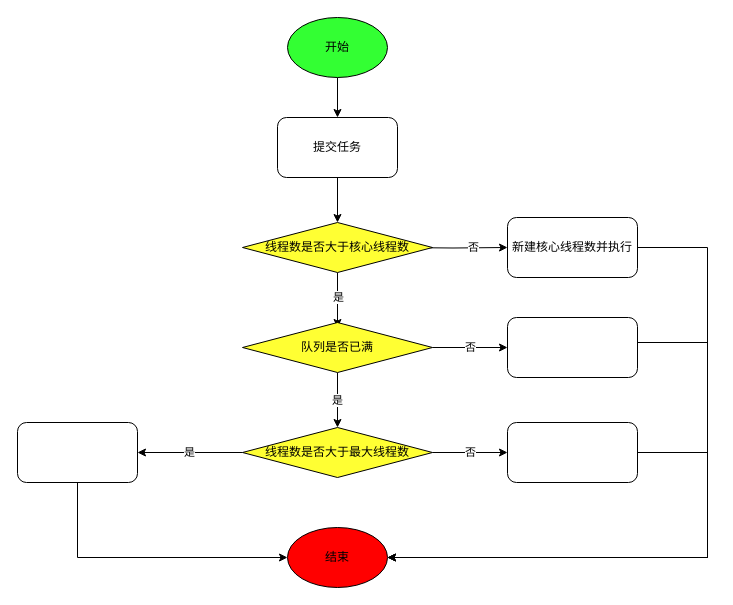
Image size: 733x605. Some labels were removed from this diagram. The box of each missing label's shape, as (x1, y1, x2, y2) in pixels:
任务放入队列等待执行: (506, 316, 638, 378)
拒绝策略: (16, 422, 138, 482)
新建临时线程执行任务: (506, 422, 638, 482)
